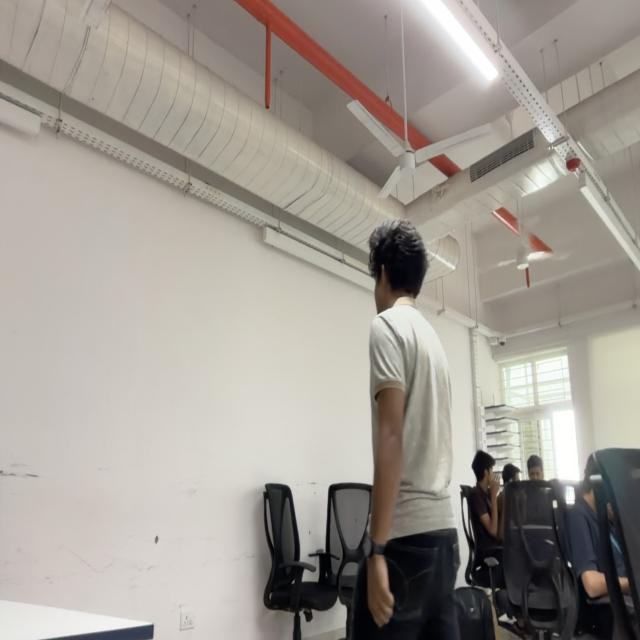kshitij: (368, 222, 430, 316)
